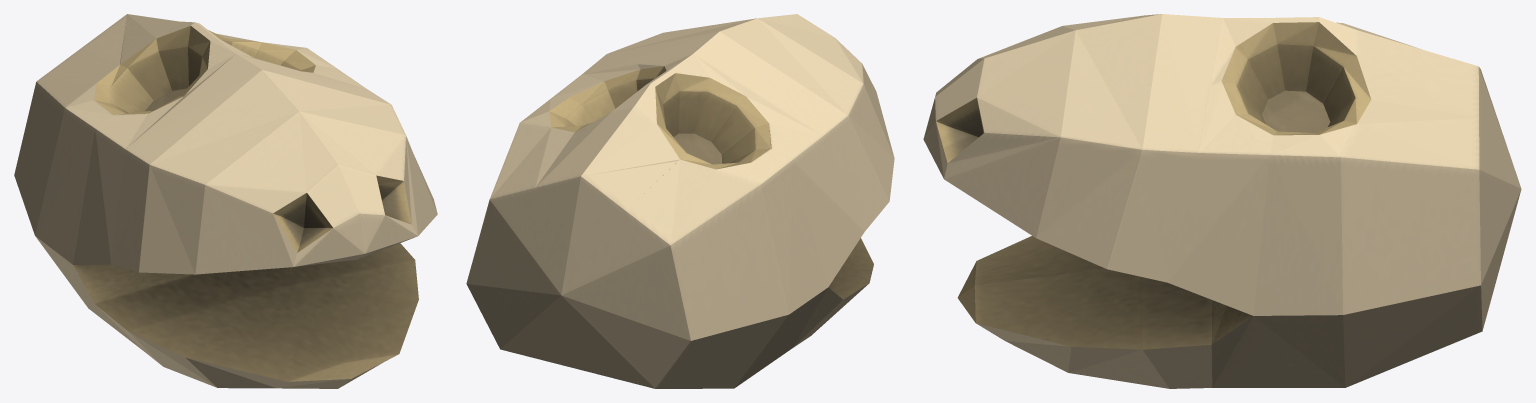
Rendered from SerpentSequelette_Tete.FBX.
The picture shows the model from 3 angles, left to right: view 1: azimuth 30°, elevation 25°; view 2: azimuth 150°, elevation 25°; view 3: azimuth 270°, elevation 25°; orthographic projection. The views are drawn at different scales.
Visible parts, largest first — view 1: SerpentSquelette_Tete; view 2: SerpentSquelette_Tete; view 3: SerpentSquelette_Tete.
Part boxes in pixels (x1,y1,x2,y2): SerpentSquelette_Tete: (14, 14, 437, 388); SerpentSquelette_Tete: (466, 14, 894, 388); SerpentSquelette_Tete: (923, 14, 1521, 388).
Size of the model in its own units: 0.67 by 0.5933 by 0.9948.
